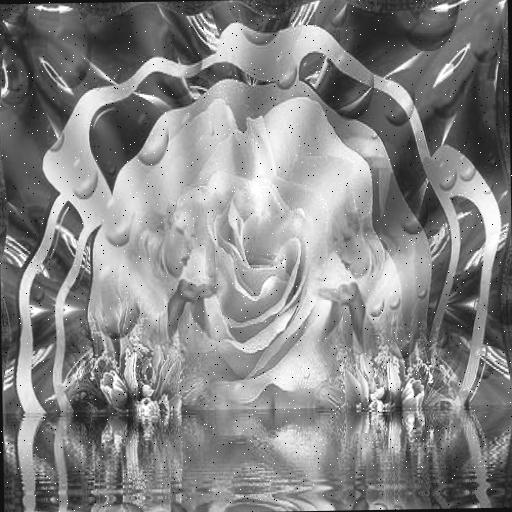rose: (202, 168, 327, 370)
